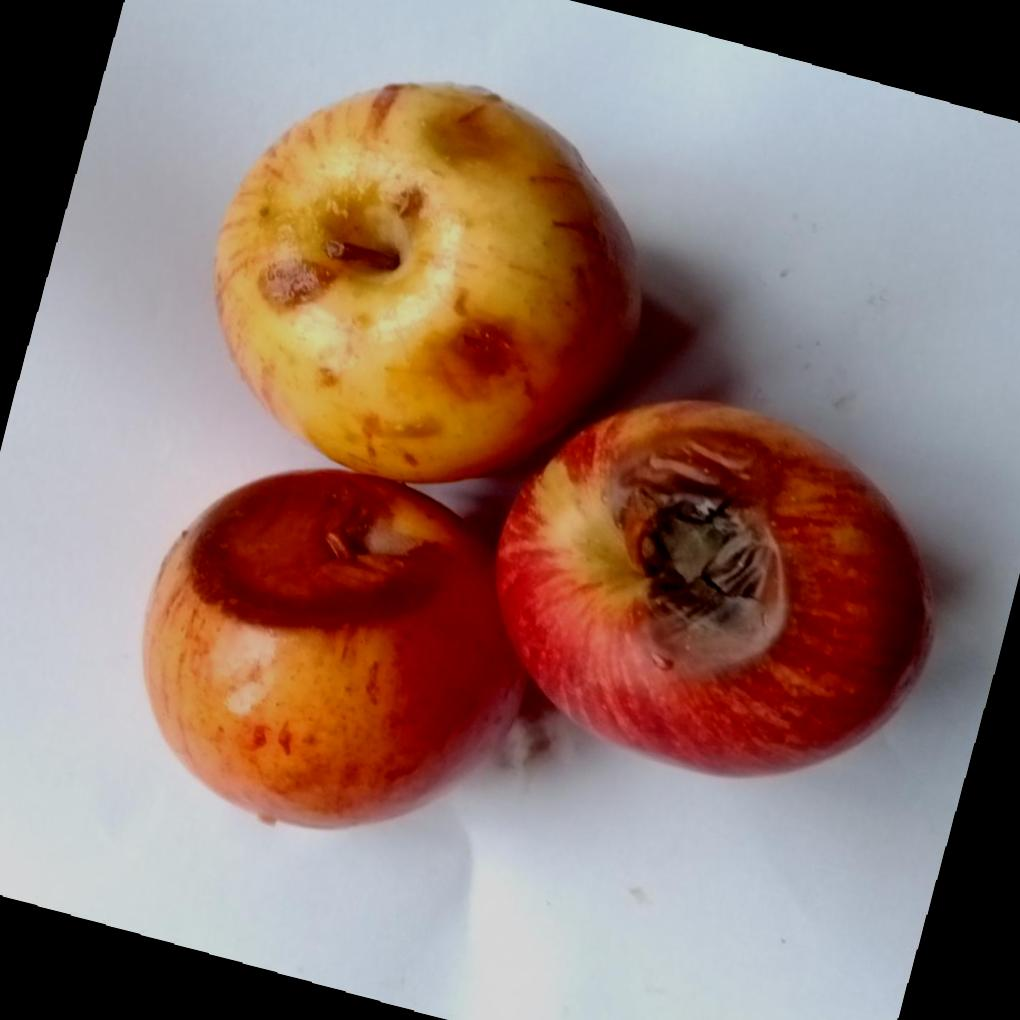FreshOrange: (142, 77, 930, 829)
